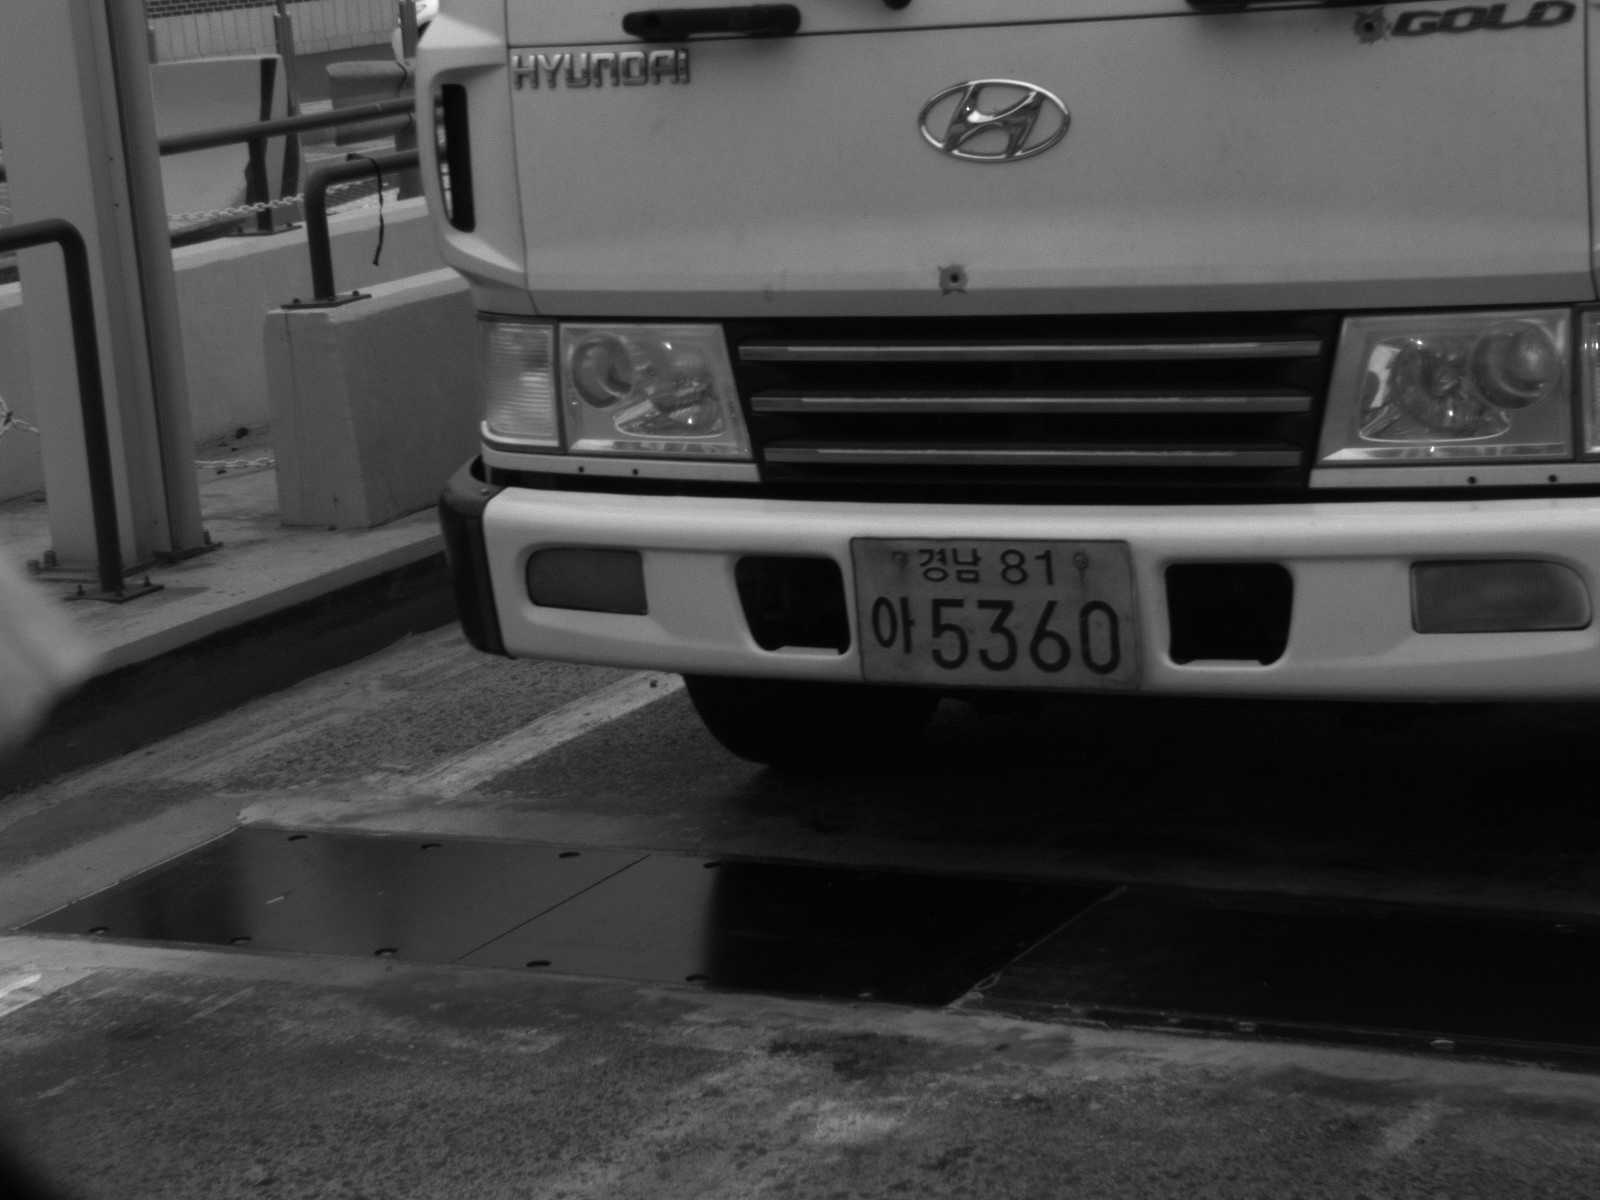car: (410, 1, 1600, 777)
plate: (847, 535, 1149, 693)
